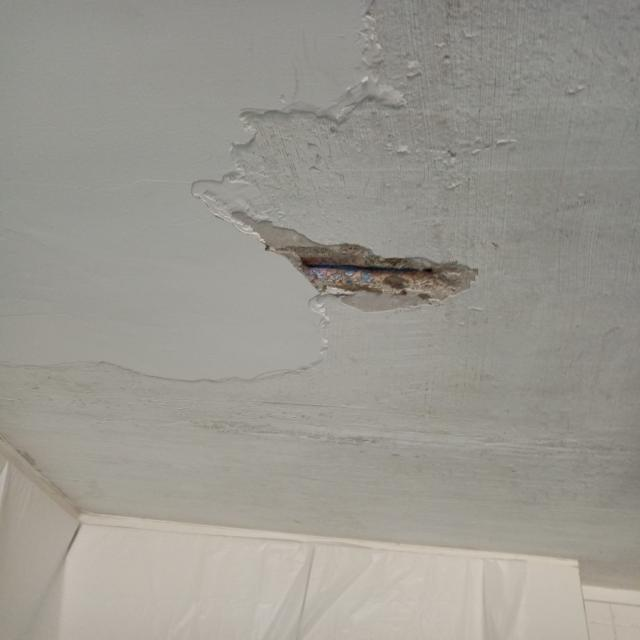spalling: (235, 213, 483, 299)
stain_mould: (302, 260, 434, 273)
